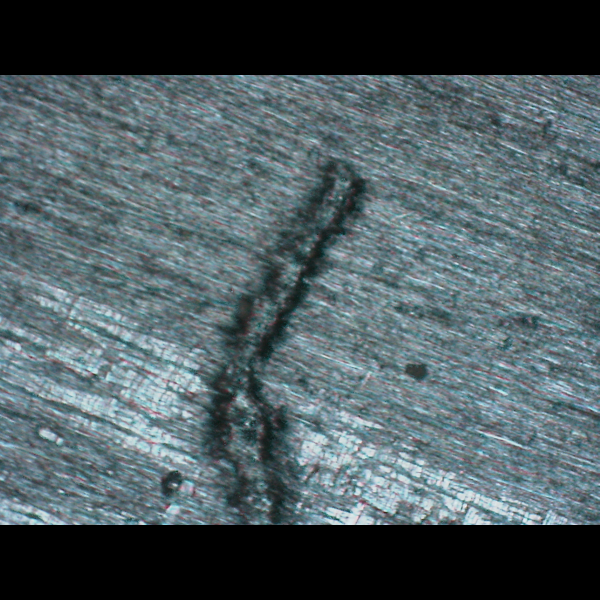d: (159, 155, 377, 524)
